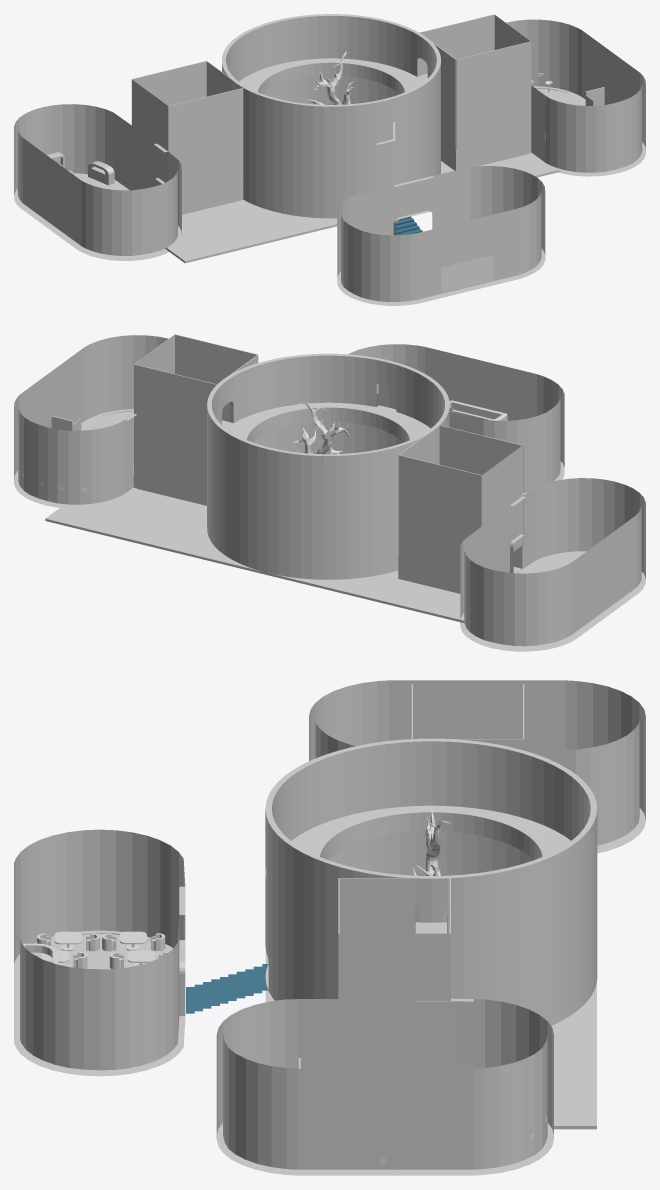
The model's file is Layout.glb.
The picture shows the model from 3 angles, top to bottom: view 1: azimuth 30°, elevation 25°; view 2: azimuth 150°, elevation 25°; view 3: azimuth 270°, elevation 25°; orthographic projection. The views are drawn at different scales.
Parts seen in each view (by area): view 1: main_to_bagno.003, room_main.004, main_to_dream.003, room_bagno.001, room_main, ground, room_dream, room_bar.001, room_bar.003, room_dream.004, room_main.007, room_bar.002 (+25 smaller); view 2: room_main.007, ground, main_to_bagno.002, main_to_dream.004, room_main.008, room_bagno.004, room_dream.004, room_dream, room_main.004, room_bar.003, room_dream.003, room_bar.001 (+21 smaller); view 3: room_bagno.003, room_bar.001, room_bar.004, room_main.005, main_to_bagno, room_bagno.004, room_bagno.001, room_main.009, room_dream.004, room_main.006, room_main.010, main_to_dream.002 (+16 smaller).
Part boxes in pixels (x1,y1,x2,y2): main_to_bagno.003: [455, 41, 531, 170]; room_main.004: [335, 84, 424, 217]; main_to_dream.003: [168, 88, 243, 214]; room_bagno.001: [542, 73, 645, 174]; room_main: [273, 98, 334, 217]; ground: [81, 154, 561, 263]; room_dream: [81, 161, 181, 255]; room_bar.001: [337, 195, 418, 303]; room_bar.003: [417, 208, 519, 301]; room_dream.004: [14, 104, 112, 202]; room_main.007: [238, 14, 327, 104]; room_bar.002: [356, 167, 470, 235]; room_main.007: [225, 431, 324, 579]; ground: [45, 465, 586, 622]; main_to_bagno.002: [134, 364, 216, 505]; main_to_dream.004: [398, 455, 481, 593]; room_main.008: [324, 447, 392, 579]; room_bagno.004: [14, 394, 127, 506]; room_dream.004: [460, 541, 571, 646]; room_dream: [536, 478, 645, 587]; room_main.004: [332, 353, 430, 454]; room_bar.003: [425, 347, 536, 420]; room_dream.003: [571, 515, 635, 634]; room_bar.001: [483, 374, 564, 494]; room_bagno.003: [297, 1068, 473, 1172]; room_bar.001: [14, 829, 183, 964]; room_bar.004: [14, 939, 183, 1072]; room_main.005: [353, 738, 508, 875]; main_to_bagno: [339, 933, 449, 1068]; room_bagno.004: [473, 999, 553, 1172]; room_bagno.001: [216, 999, 296, 1172]; room_main.009: [507, 840, 577, 1025]; room_dream.004: [566, 680, 645, 845]; room_main.006: [353, 868, 509, 1003]; room_main.010: [285, 840, 355, 999]; main_to_dream.002: [412, 683, 522, 738].
Size of what is drawn, in the model's own units: 223 by 52.32 by 151.
36 materials, 3 textured.
